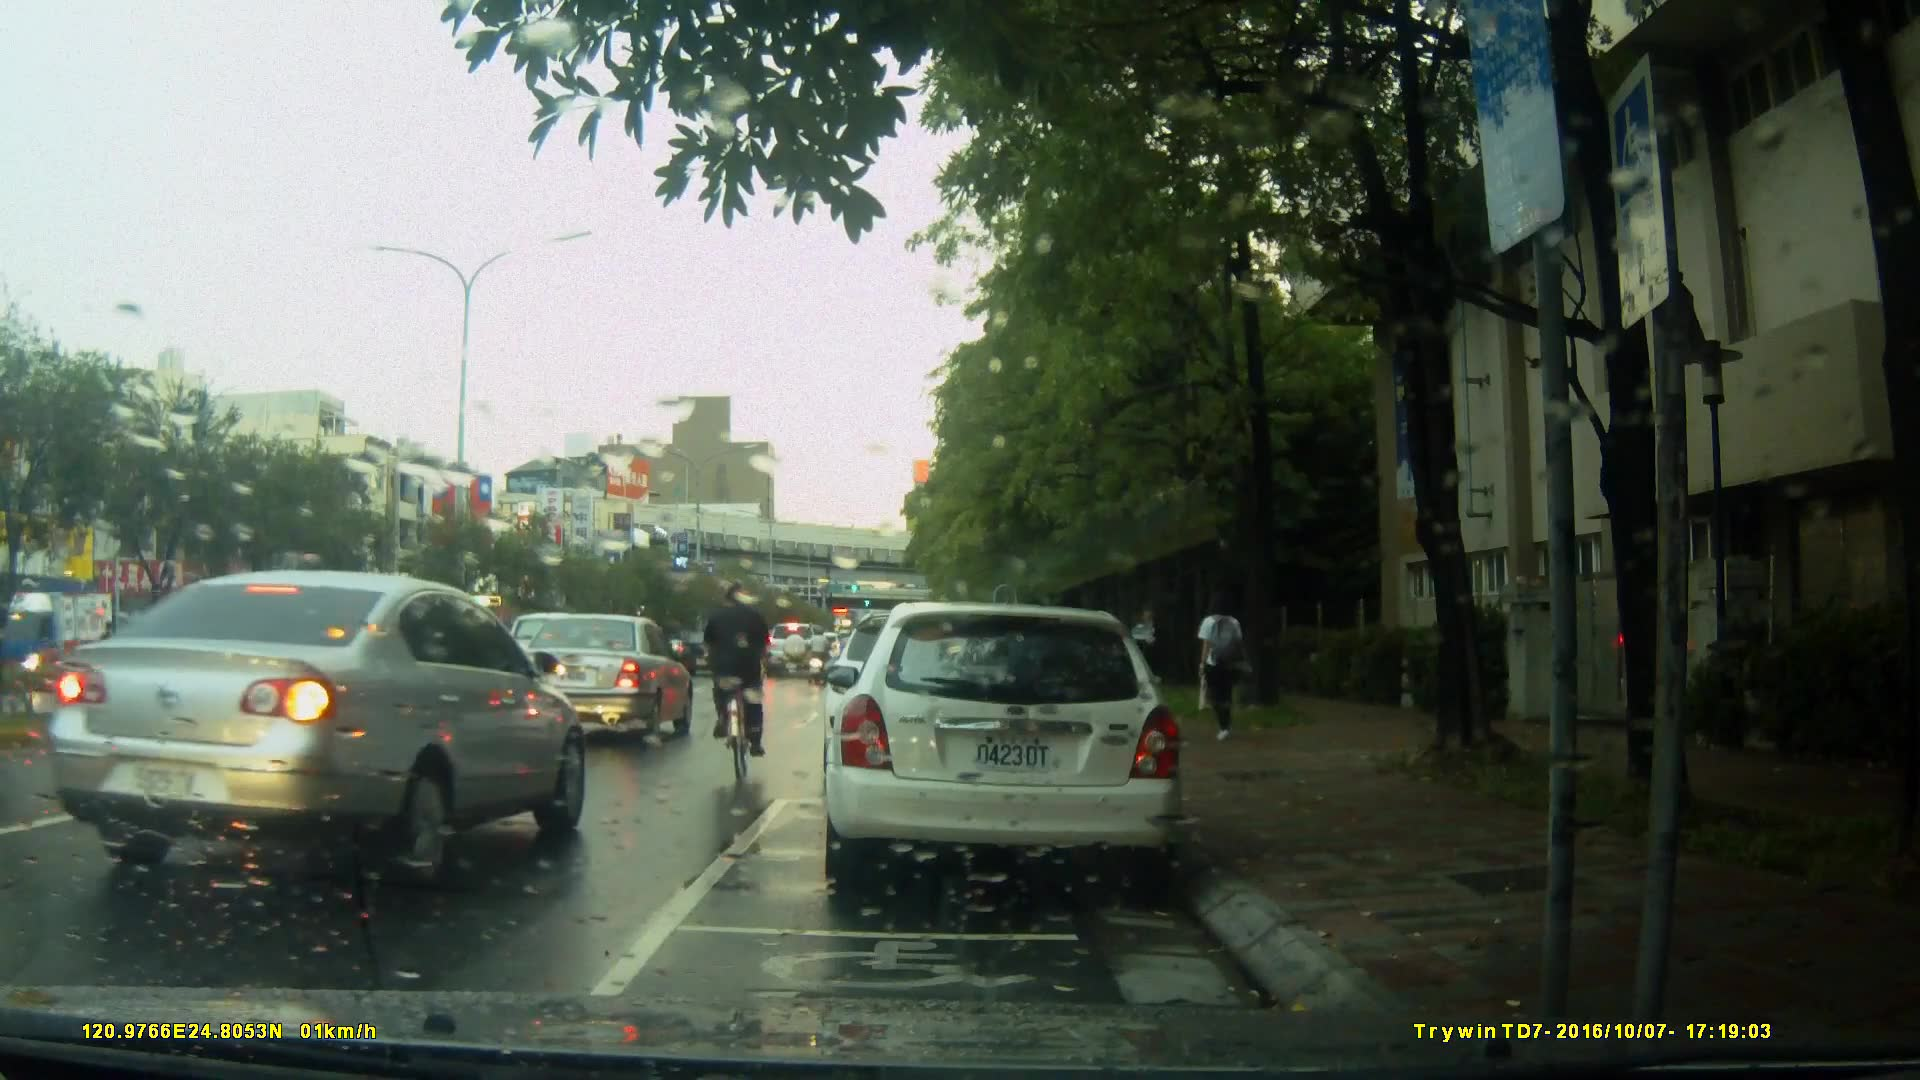pedestrian: (1190, 590, 1246, 743)
rider: (705, 584, 773, 788), (727, 608, 775, 721), (809, 624, 831, 685)
vehicle: (46, 569, 590, 895), (820, 602, 1188, 898), (498, 611, 699, 749)
